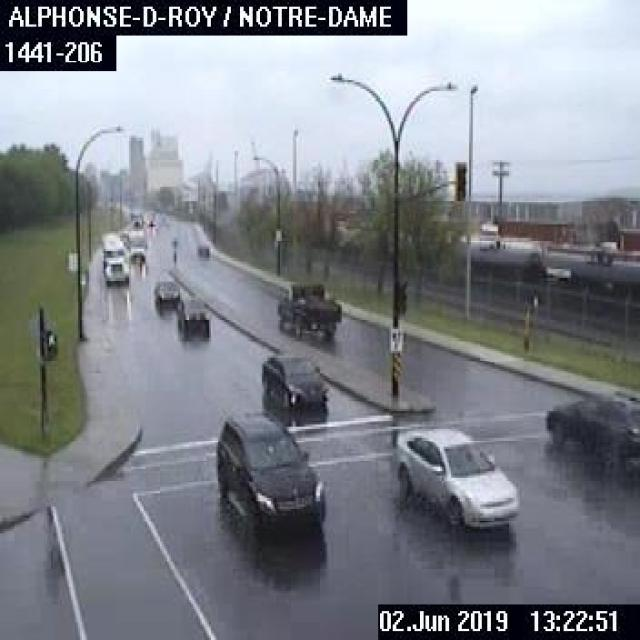vehicle: (389, 425, 518, 531), (213, 406, 325, 526), (544, 391, 638, 476), (256, 351, 326, 416), (273, 278, 342, 336), (98, 228, 130, 280), (172, 293, 209, 337), (152, 276, 181, 312), (125, 227, 147, 266)
